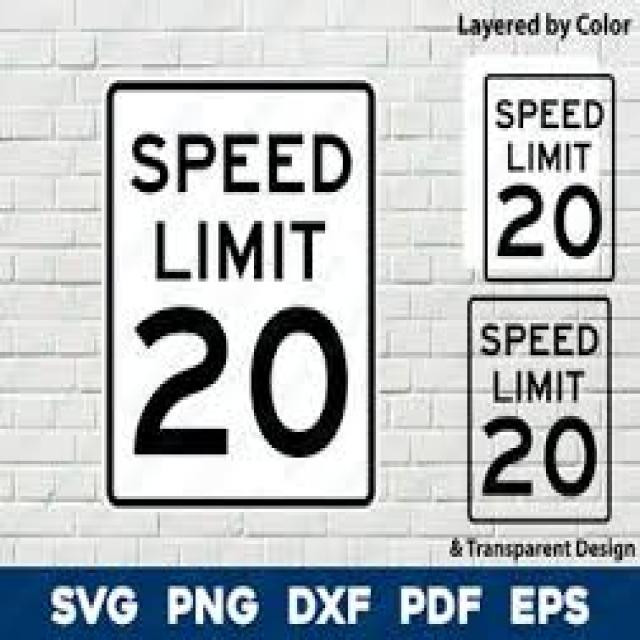speedLimit20: (99, 85, 373, 510), (466, 294, 611, 528), (484, 76, 616, 286)
